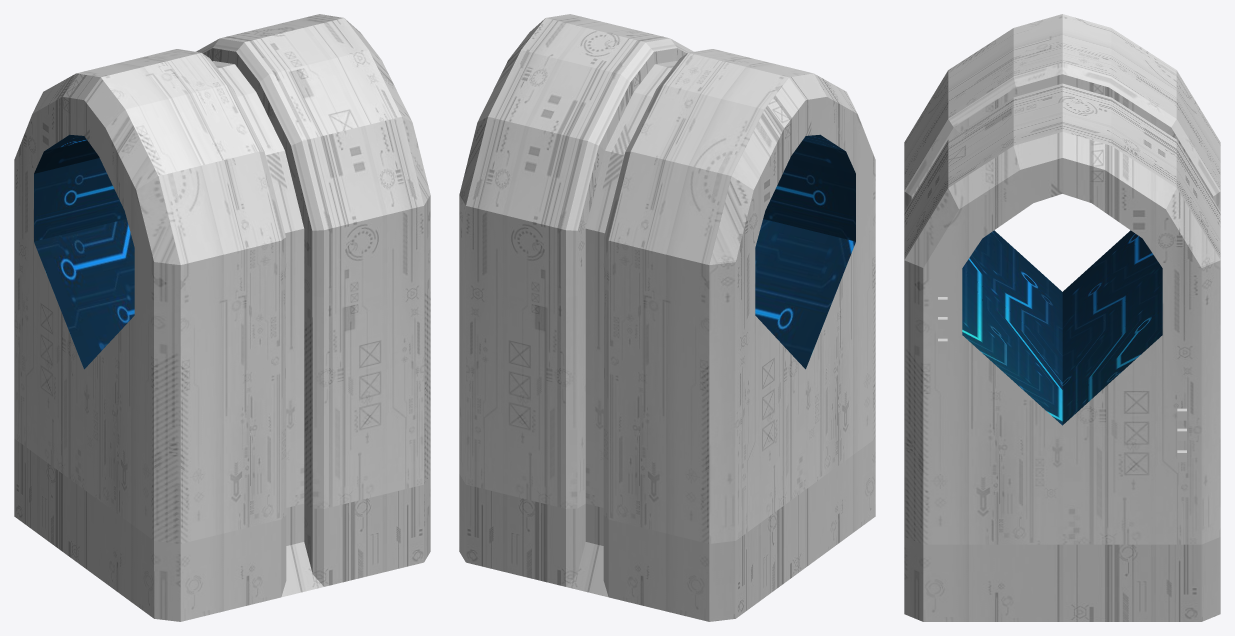
File: Block13.fbx
3 views of the same model, side by side, from view 1: azimuth 30°, elevation 25°; view 2: azimuth 150°, elevation 25°; view 3: azimuth 270°, elevation 25° (orthographic).
Visible parts, largest first — view 1: Cube.012; view 2: Cube.012; view 3: Cube.012.
Boxes of the visible parts, <box> form: Cube.012: <box>14,14,430,621</box>; Cube.012: <box>459,14,875,621</box>; Cube.012: <box>904,14,1220,621</box>.
Size of the model in its own units: 204 by 200 by 336.
